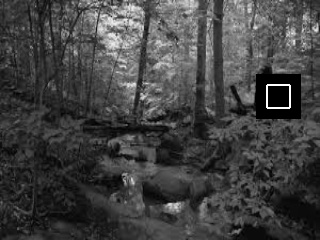square: (256, 74, 302, 119)
